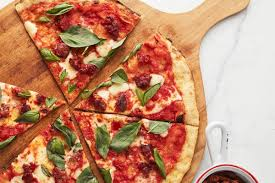pizza: (4, 4, 198, 180)
